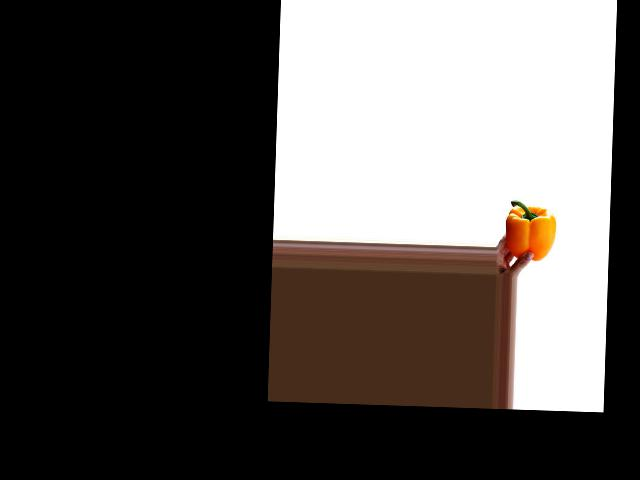bell_pepper: (504, 197, 558, 262)
